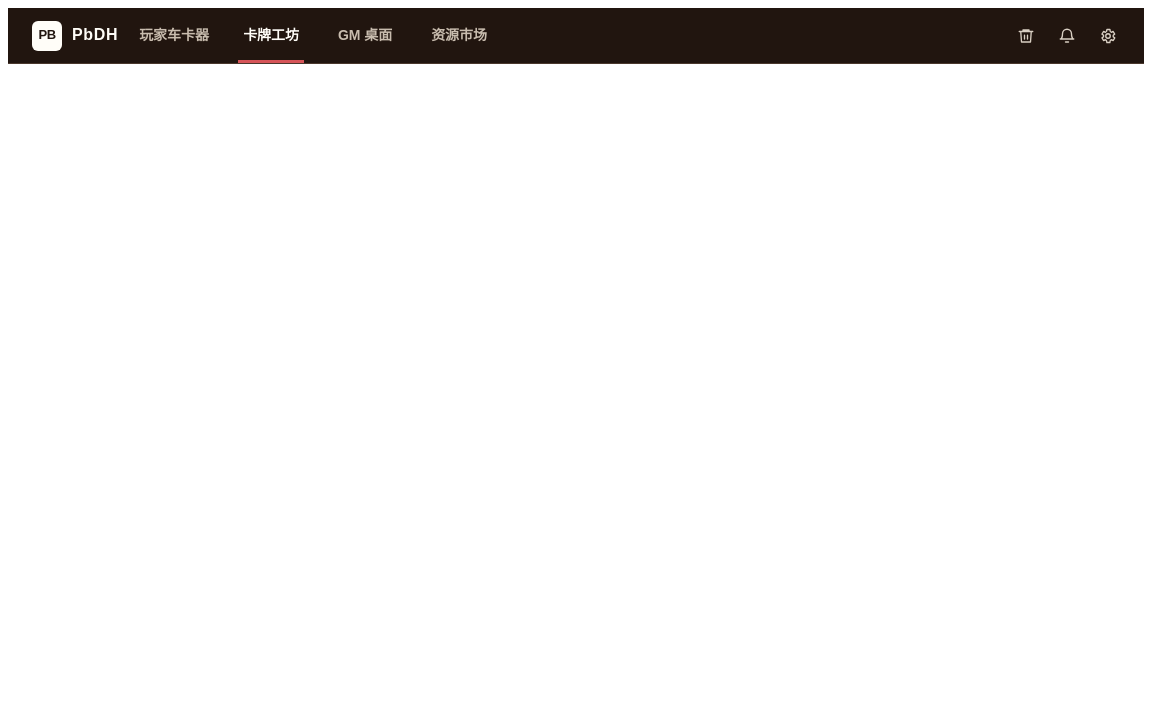
Test: 一个来源读取失败不隐藏成功来源，且不能全部删除不完整列表
Click the button named "回收站" at (1026, 36), box [1008, 18, 1044, 52]
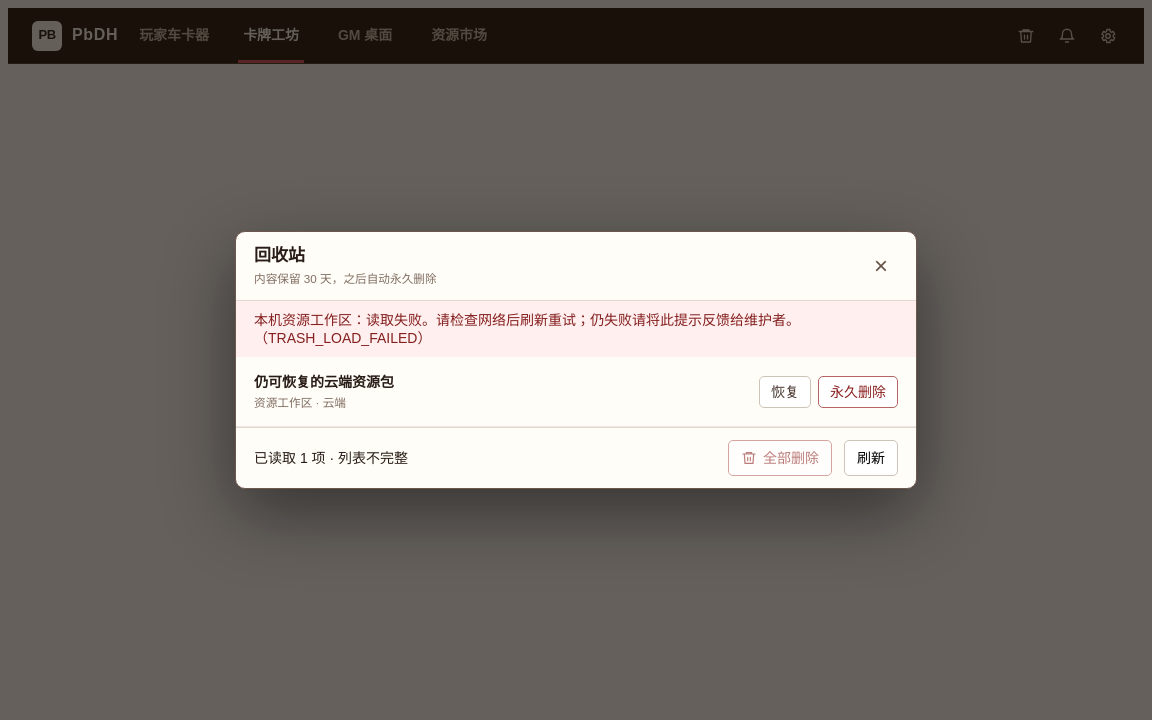
Now the text "仍可恢复的云端资源包" is shown, box [254, 373, 394, 391]
Now the text "本机资源工作区" is shown, box [254, 312, 800, 346]
Now the button "全部删除" is disabled, box [728, 440, 832, 476]
